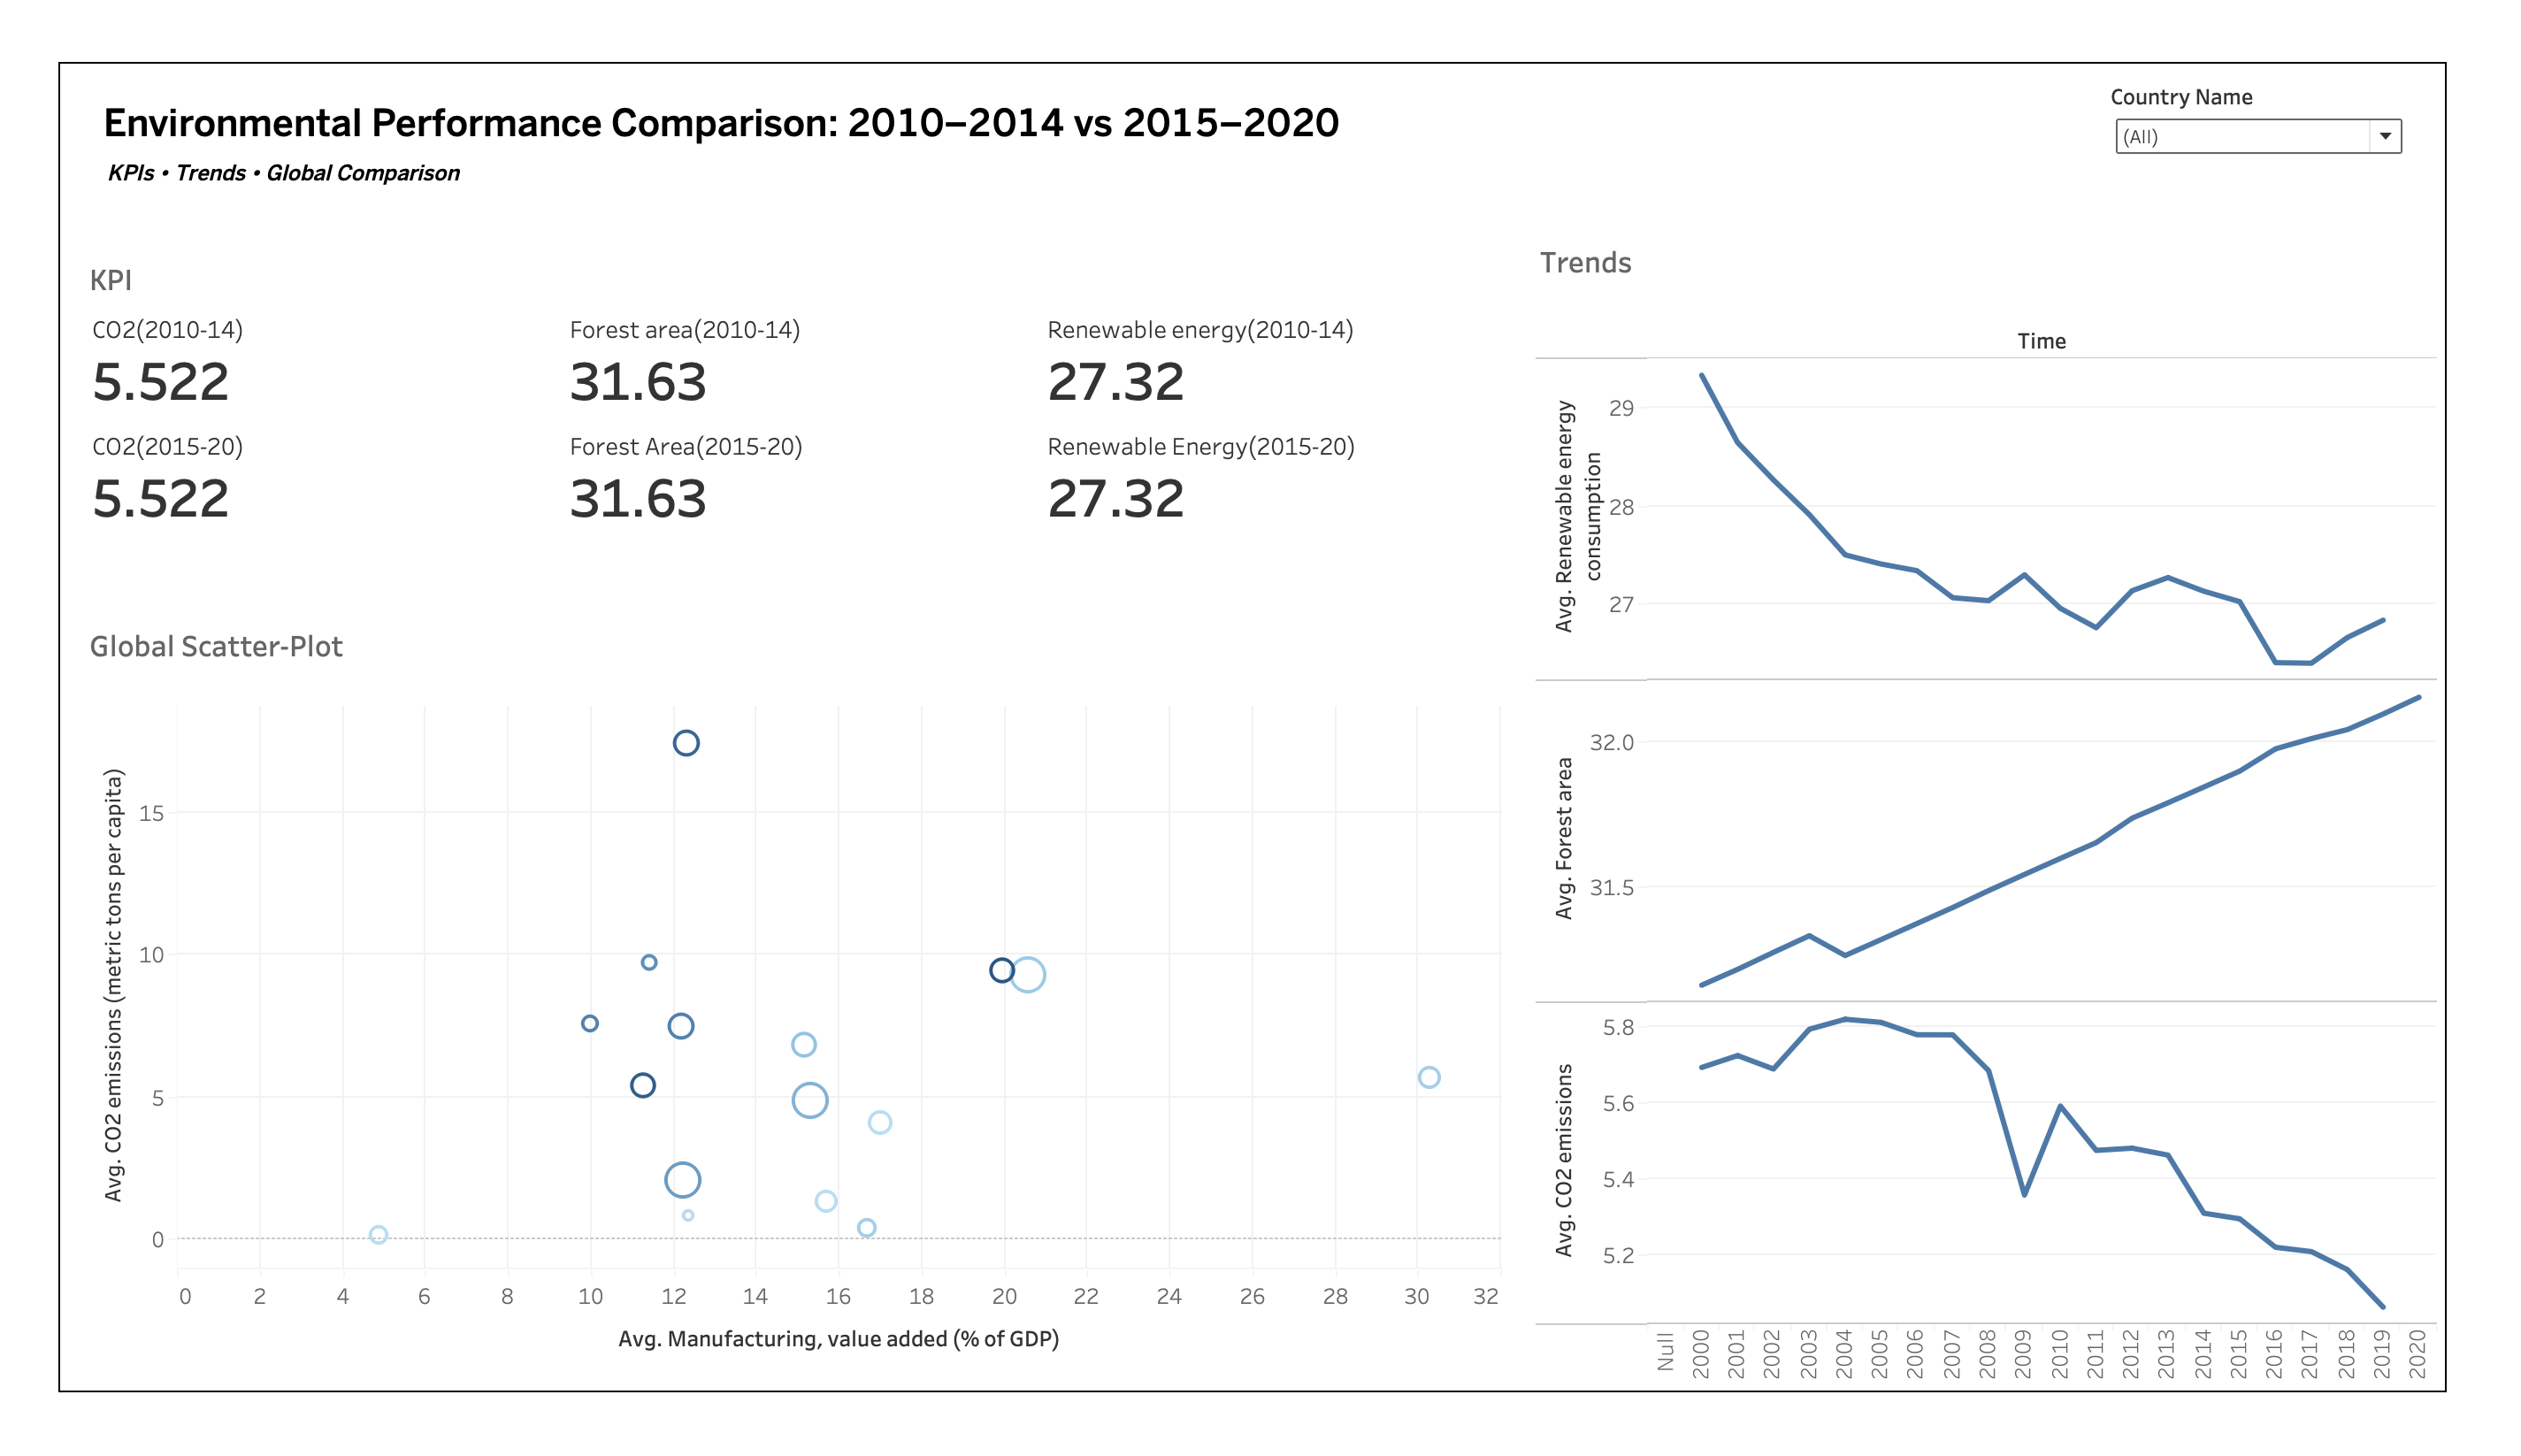

Layout of this report page (visuals, bound fields, positions):
{"tool":"tableau","page":{"name":"Dashboard","canvas":[1366,768],"ordinal":0},"visuals":[{"type":"filter","title":"Trend(2010-20)","param":"[federated.1gs9cez1xdrykv1d21aq31af13sh].[none:Country Name:nk]","box":[1168,19,168,75]},{"type":"text","box":[29,29,1308,28.4]},{"type":"text","box":[29,57.4,1308,28.4]},{"type":"text","box":[838.8,105.7,518.2,30]},{"type":"text","box":[19,115.7,809.8,30]},{"type":"worksheet","title":"Trend(2010-20)","mark":"Line","rows":["Forest area (% of land area) (AG.LND.FRST.ZS)","CO2 emissions (metric tons per capita) (EN.ATM.CO2E.PC)"],"cols":["Time"],"box":[838.8,135.7,518.2,623.3]},{"type":"worksheet","title":"KPI CO2 (2010-14)","mark":"Automatic","box":[19,146,270,66]},{"type":"worksheet","title":"KPI Forest Area (2010-14)","mark":"Automatic","box":[289,146,270,66]},{"type":"worksheet","title":"KPI Renewable energy(2010-14)","mark":"Automatic","box":[559,146,270,66]},{"type":"worksheet","title":"KPI CO2 (2015-20)","mark":"Automatic","box":[19,212,270,101]},{"type":"worksheet","title":"KPI Forest Area (2015 - 20)","mark":"Automatic","box":[289,212,270,101]},{"type":"worksheet","title":"KPI Renewable energy(2010-14) (2)","mark":"Automatic","box":[559,212,270,101]},{"type":"blank","box":[19,312.7,809.8,10]},{"type":"text","box":[19,322.7,809.8,30]},{"type":"worksheet","title":"Global Scatter-Plot","mark":"Automatic","rows":["CO2 emissions (metric tons per capita) (EN.ATM.CO2E.PC)"],"cols":["Manufacturing, value added (% of GDP) (NV.IND.MANF.ZS)"],"box":[19,352.8,809.8,396.2]}]}

Visuals, with their boxes in screenshot pixels (x1, y1, x2, y2), scaled from the page's 1366x768 canvas onto the 2521x1456 screenshot:
"Trend(2010-20)" filter: pyautogui.locateOnScreen(2156, 36, 2465, 178)
text: pyautogui.locateOnScreen(54, 55, 2467, 109)
text: pyautogui.locateOnScreen(54, 109, 2467, 163)
text: pyautogui.locateOnScreen(1548, 201, 2504, 257)
text: pyautogui.locateOnScreen(35, 219, 1529, 276)
"Trend(2010-20)" worksheet (Line marks): pyautogui.locateOnScreen(1548, 257, 2504, 1439)
"KPI CO2 (2010-14)" worksheet: pyautogui.locateOnScreen(35, 277, 533, 402)
"KPI Forest Area (2010-14)" worksheet: pyautogui.locateOnScreen(533, 277, 1031, 402)
"KPI Renewable energy(2010-14)" worksheet: pyautogui.locateOnScreen(1031, 277, 1530, 402)
"KPI CO2 (2015-20)" worksheet: pyautogui.locateOnScreen(35, 402, 533, 594)
"KPI Forest Area (2015 - 20)" worksheet: pyautogui.locateOnScreen(533, 402, 1031, 594)
"KPI Renewable energy(2010-14) (2)" worksheet: pyautogui.locateOnScreen(1031, 402, 1530, 594)
blank: pyautogui.locateOnScreen(35, 593, 1529, 612)
text: pyautogui.locateOnScreen(35, 612, 1529, 669)
"Global Scatter-Plot" worksheet: pyautogui.locateOnScreen(35, 669, 1529, 1420)
